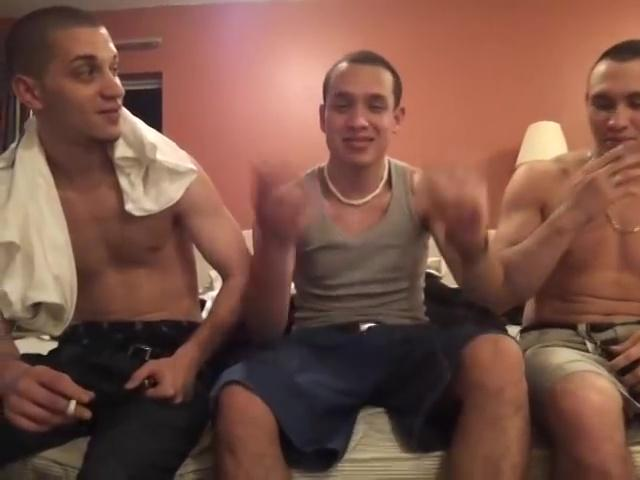cigarette: (65, 397, 78, 419)
